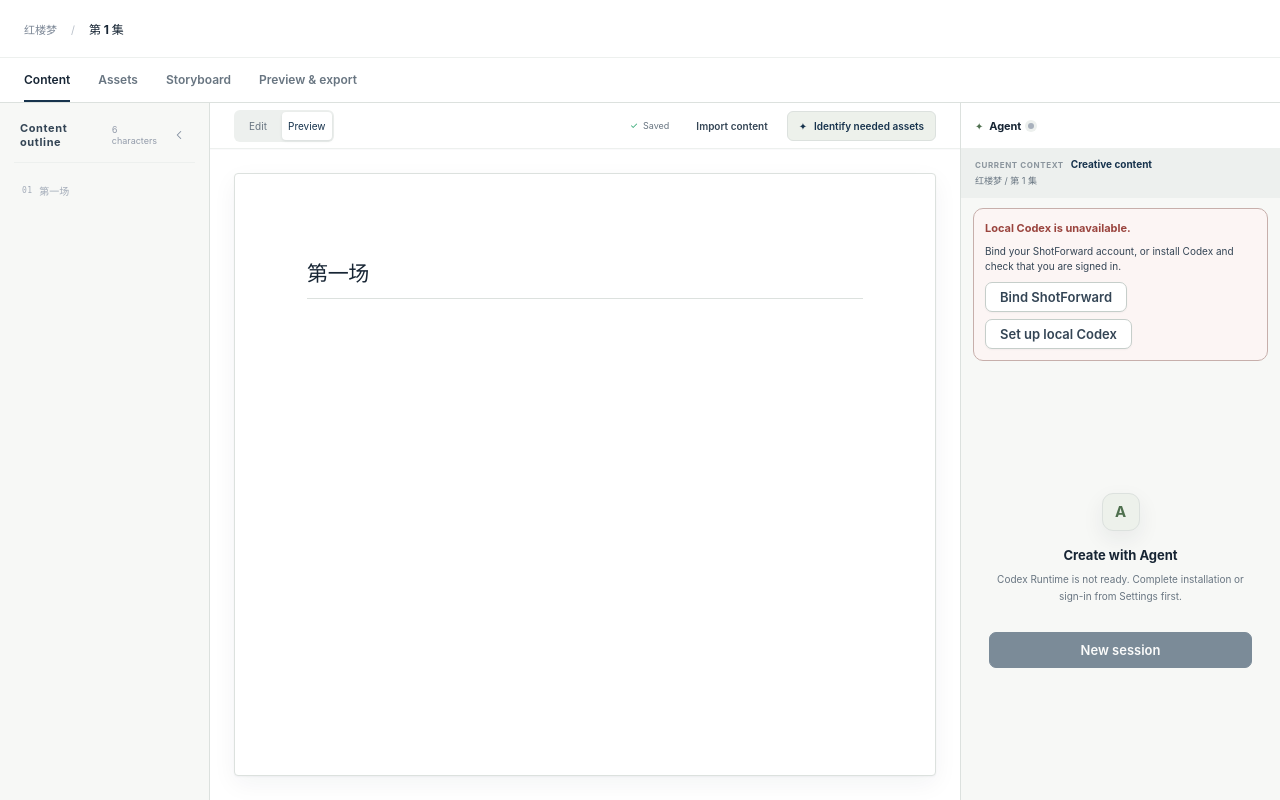
Test case: workspace navigation rails › renders Markdown as a formatted preview and keeps source editing explicit
Expected: the heading "第一场" is shown, [307, 260, 863, 299]
What coordinates should you click on to do the following:
click the button "Edit"
I would click on:
 (258, 126)
Its box is [236, 112, 280, 140].
(page scrolled)
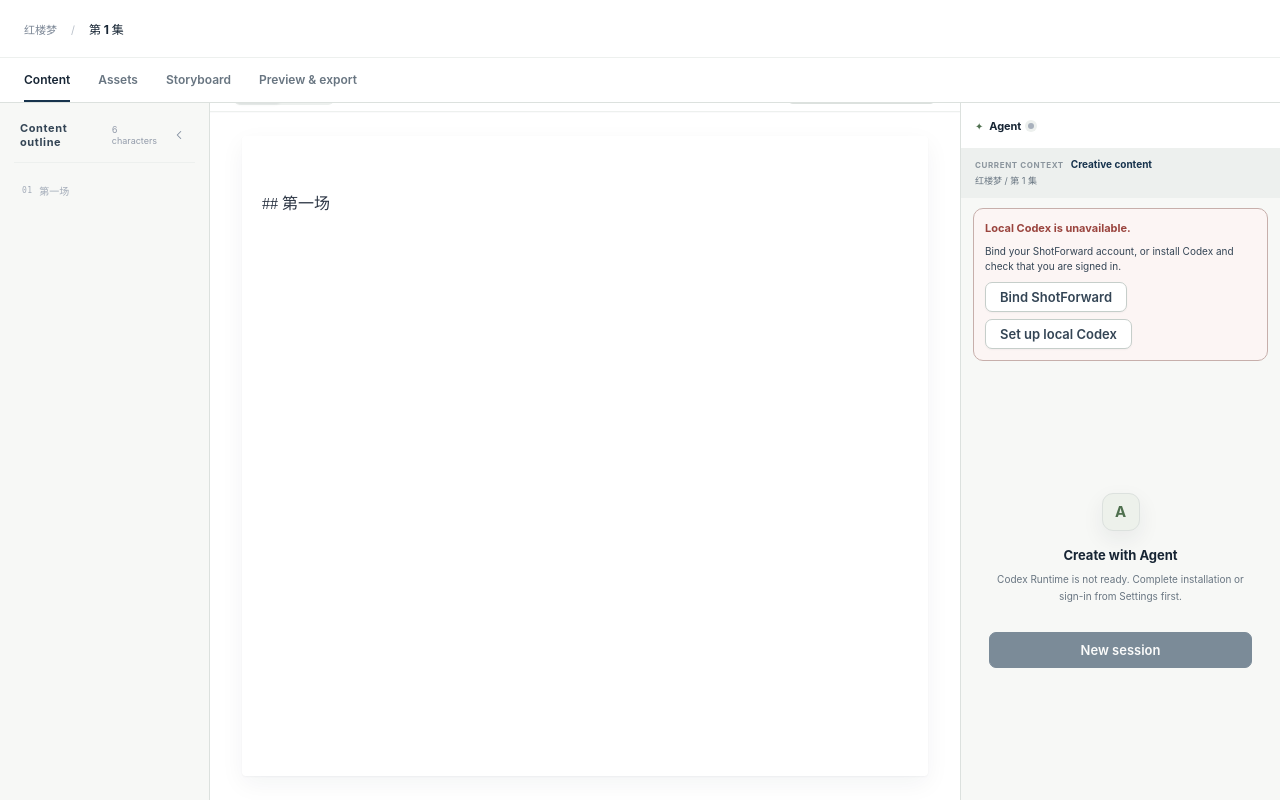
Expected: the text box named "Creative content editor" holds "## 第一场", [242, 136, 928, 776]
